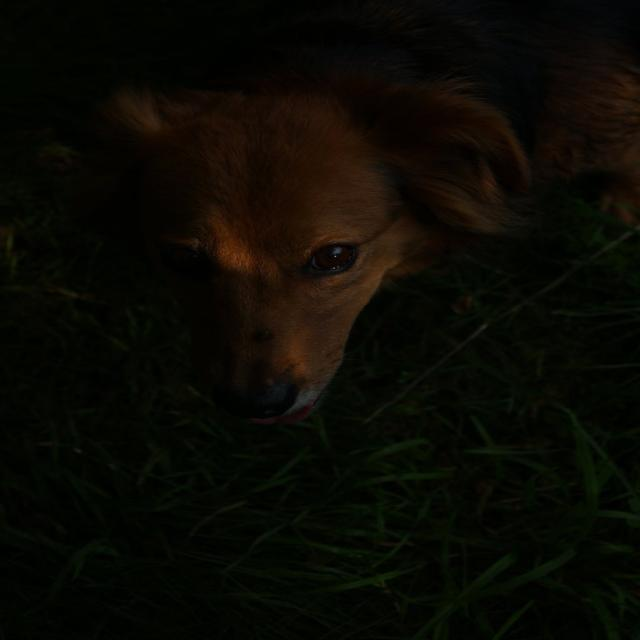Dog: (0, 104, 577, 532)
